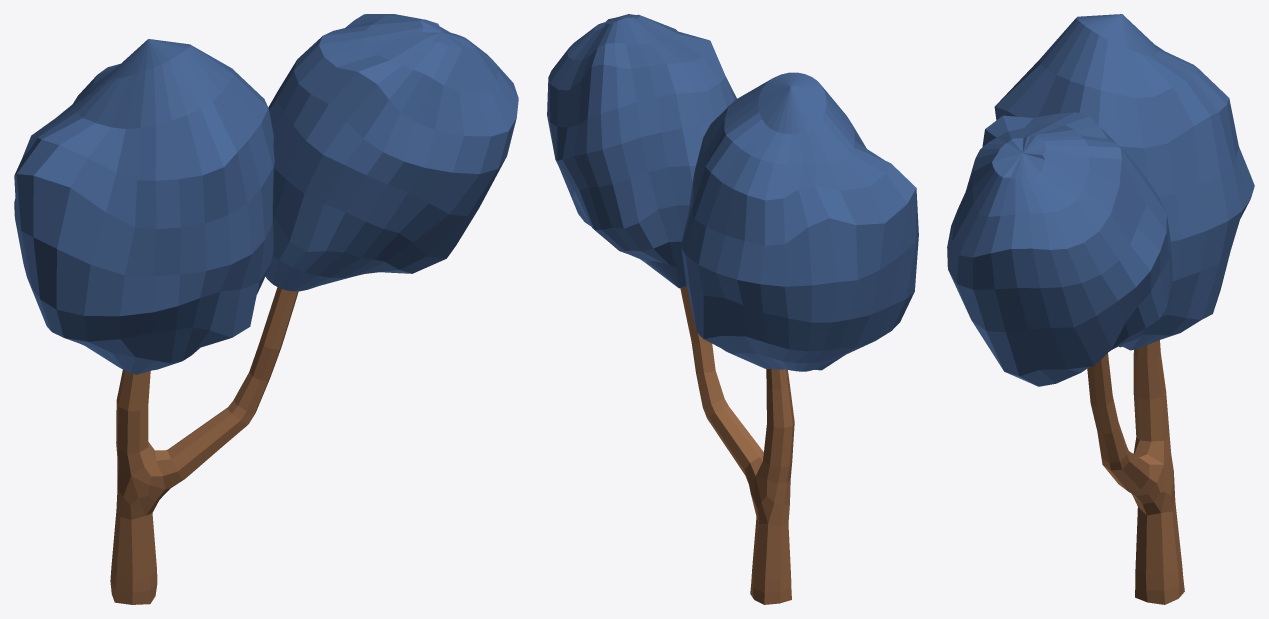
Rendered from tree-winter-complete-12-004.glb.
3 views of the same model, side by side, from view 1: azimuth 30°, elevation 25°; view 2: azimuth 150°, elevation 25°; view 3: azimuth 270°, elevation 25° (orthographic). The views are drawn at different scales.
Visible parts, largest first — view 1: TREE 12.005_189, TREE 12.004_190; view 2: TREE 12.005_189, TREE 12.004_190; view 3: TREE 12.005_189, TREE 12.004_190.
Part boxes in pixels (bbox=[...]): TREE 12.005_189: bbox=[14, 14, 518, 374]; TREE 12.004_190: bbox=[110, 287, 298, 604]; TREE 12.005_189: bbox=[547, 14, 918, 371]; TREE 12.004_190: bbox=[680, 286, 794, 604]; TREE 12.005_189: bbox=[947, 14, 1254, 386]; TREE 12.004_190: bbox=[1087, 340, 1184, 604].
Bounding box in the file's own units: 1.4 × 1.72 × 0.828.
